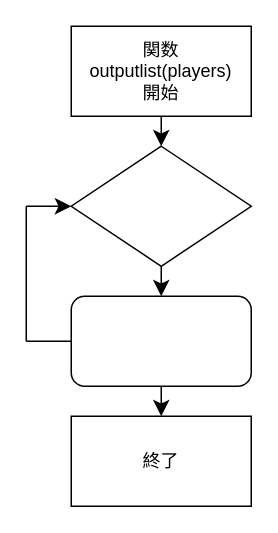
Image size: 278x533. Some labels were removed from this diagram. The shapes that lost their labels are listed below. From the top down, each one's box as (x1, y1, x2, y2) in pixels, then its label:
(70, 145, 251, 266): for player in players
(70, 295, 251, 386): print("number,name, profile")
